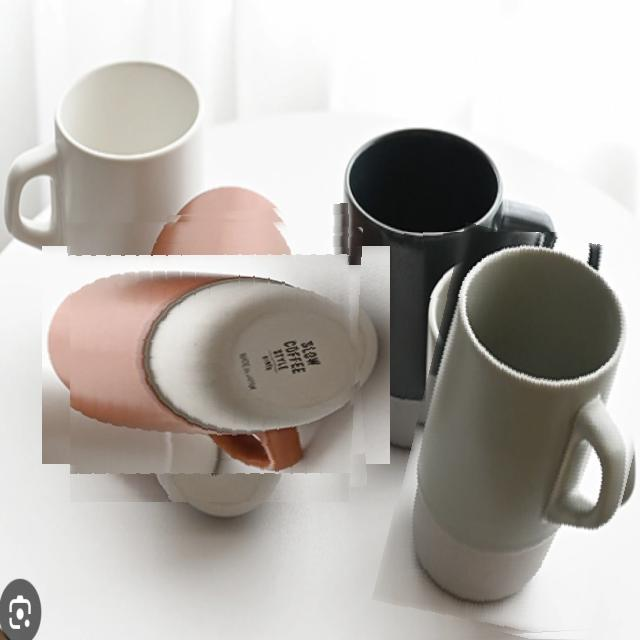recyclable: (394, 232, 640, 640), (70, 208, 363, 502)
